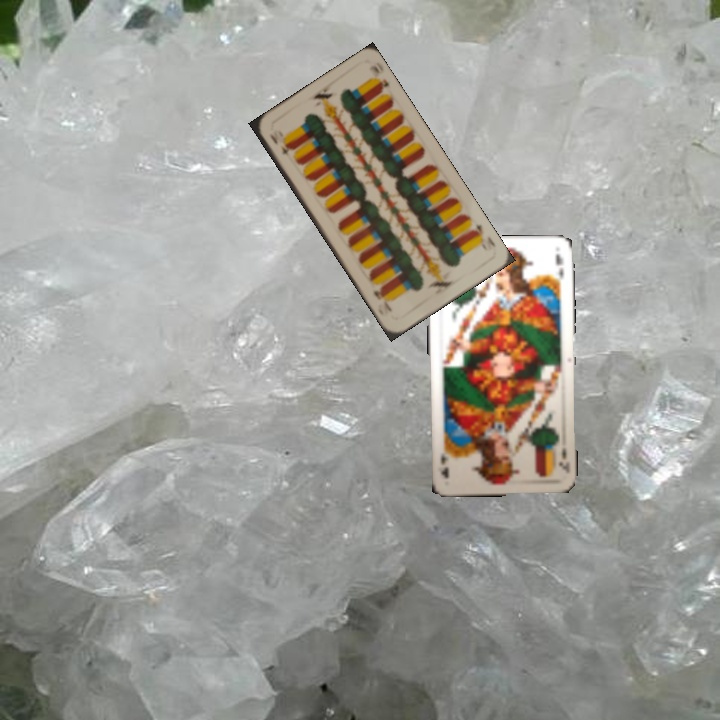E10: (467, 219, 498, 251), (265, 129, 294, 162)
EK: (554, 443, 570, 475)
